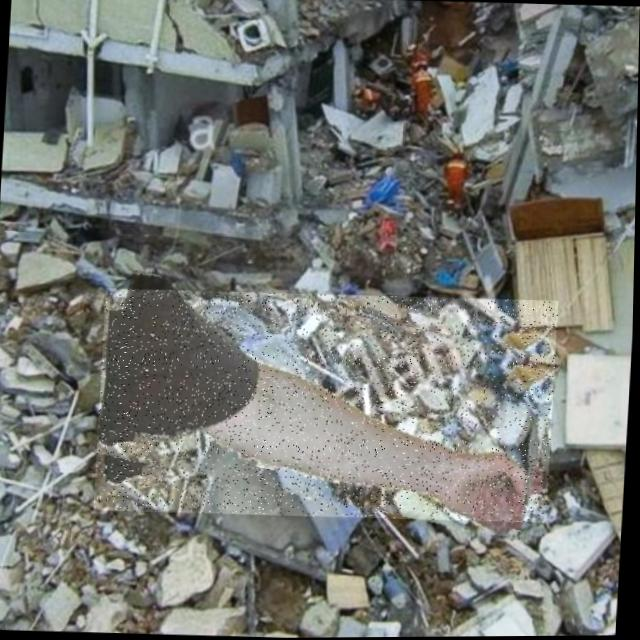Person in Rubble: (95, 285, 559, 526)
